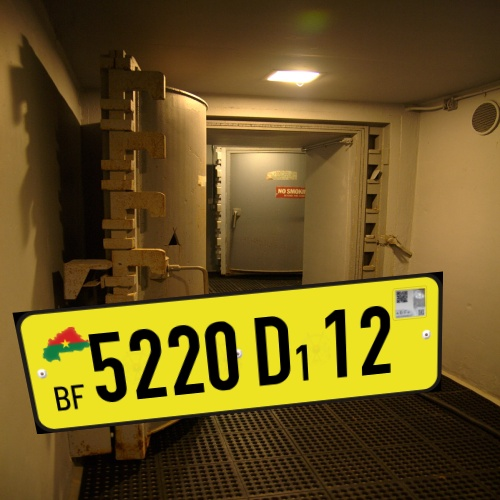plate: (11, 263, 457, 451)
